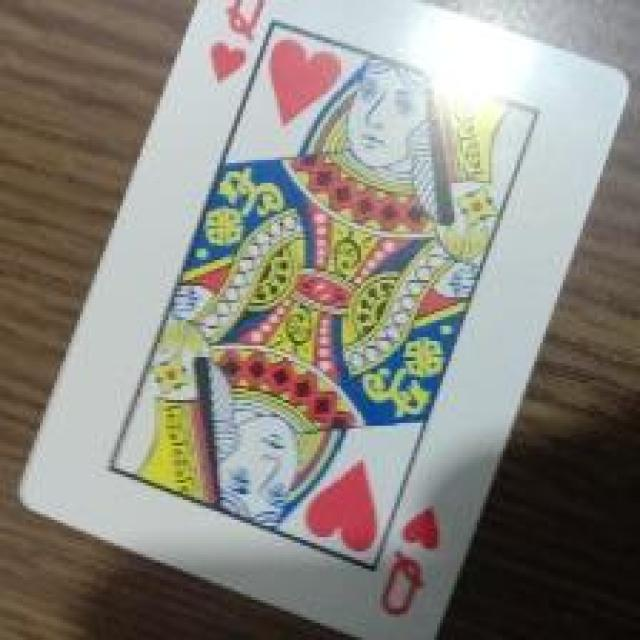Queen of hearts: (26, 1, 624, 619)
